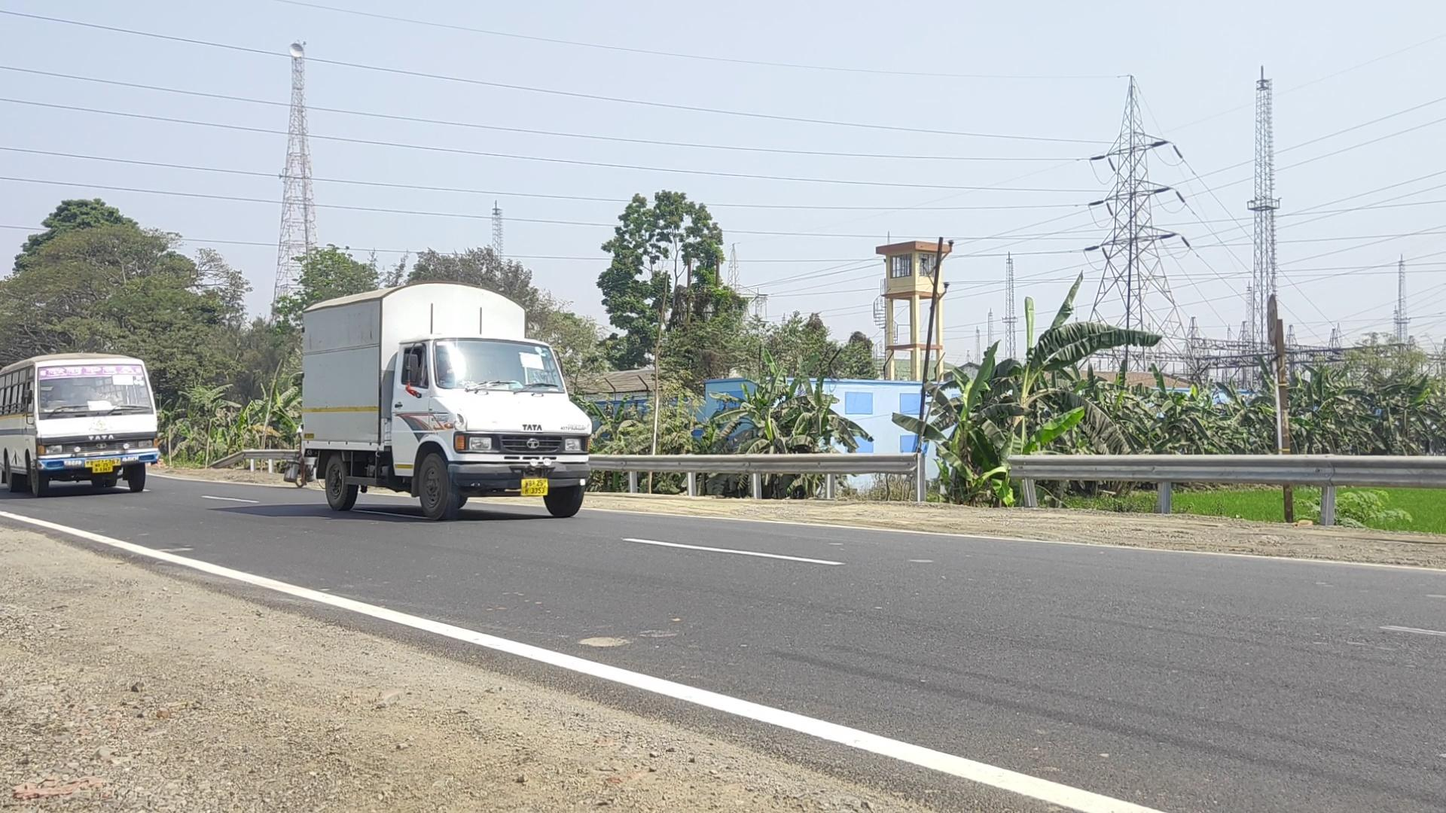Bus: (1, 352, 160, 498)
truck: (301, 282, 592, 522)
